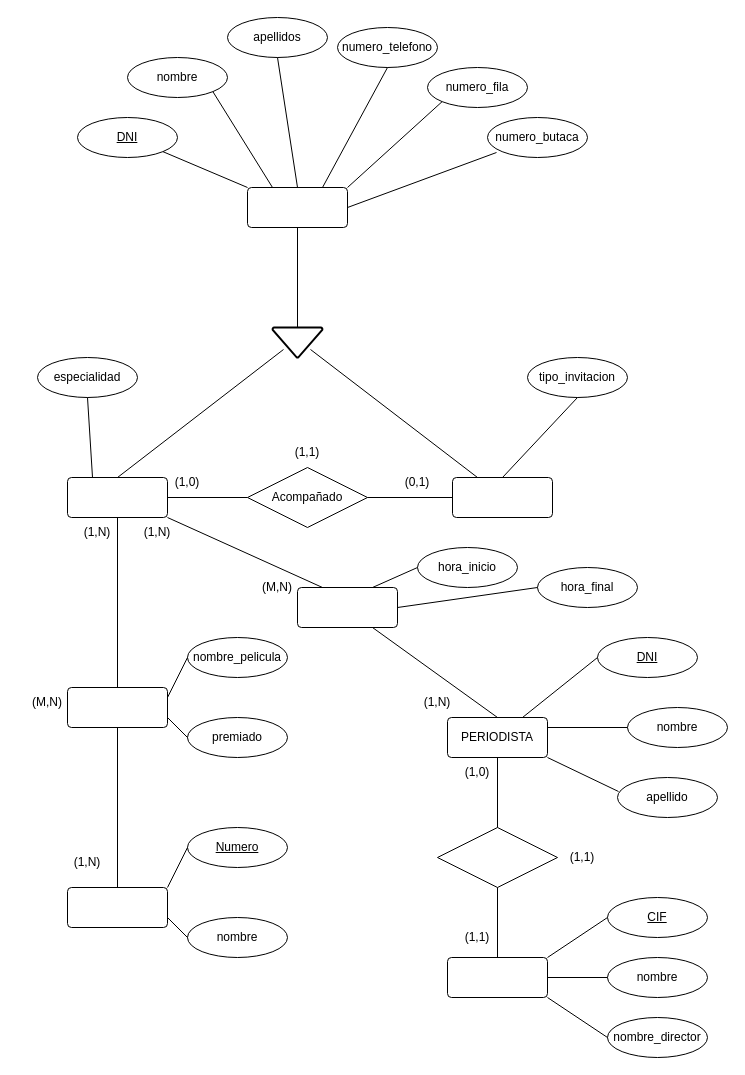
Some shapes in this 745 by 1075 pixel diagram are drawn without their labels. The shapes that lost their labels are listed below. From the top down, each one's centre as x and y in pixels, then its label:
At [297,207]: "ASISTENTE".
At [117,497]: "ARTISTA".
At [502,497]: "INVITADOS".
At [347,607]: "Entrevista".
At [117,707]: "Nominacion".
At [497,857]: "Representado".
At [117,907]: "CATEGORIA".
At [497,977]: "AGENCIA".
